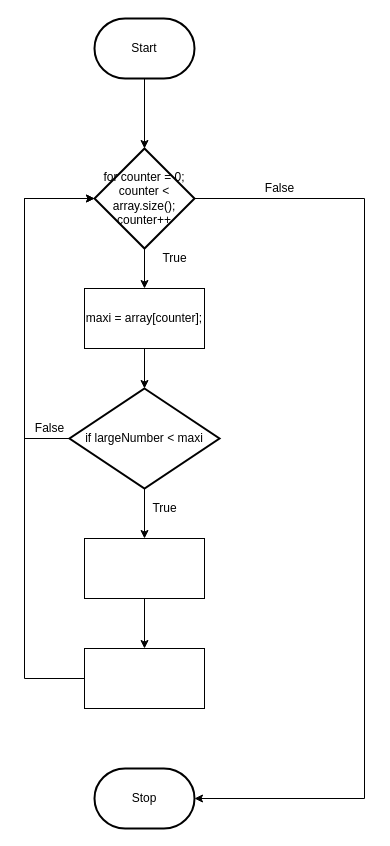
Some shapes in this 390 by 846 pixel diagram are drawn without their labels. Each missing label, with the box of its shape:
largeNumber = maxi: (84, 538, 204, 598)
return largeNumber: (84, 648, 204, 708)
